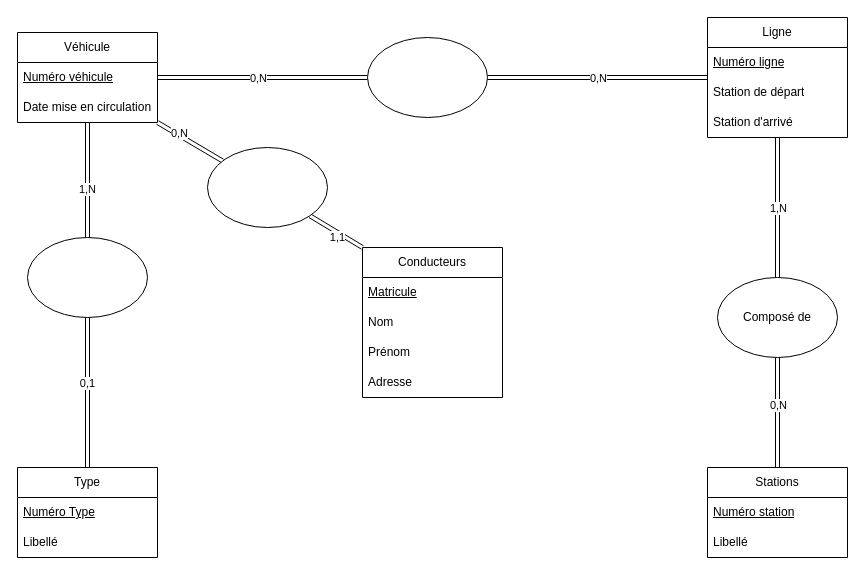
The diagram is 865 pixels wide and 575 high, and some of its shapes have lost their labels. The shapes that lost their labels are listed below. From the top down, each one's centre as x and y in pixels, then its label:
[427,77]: Circulent sur
[267,187]: Habilité à conduire
[87,277]: Est de type
